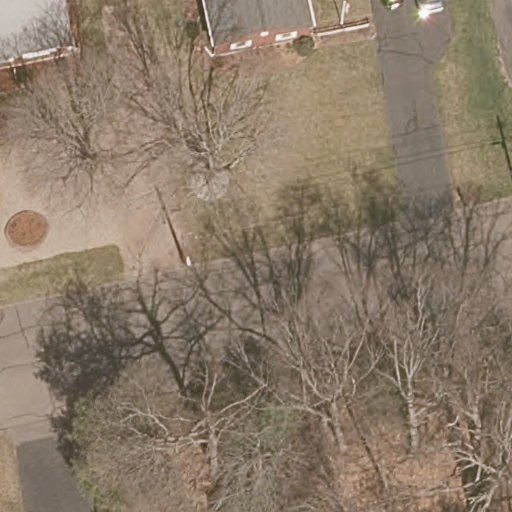DT: (179, 234, 200, 267)
